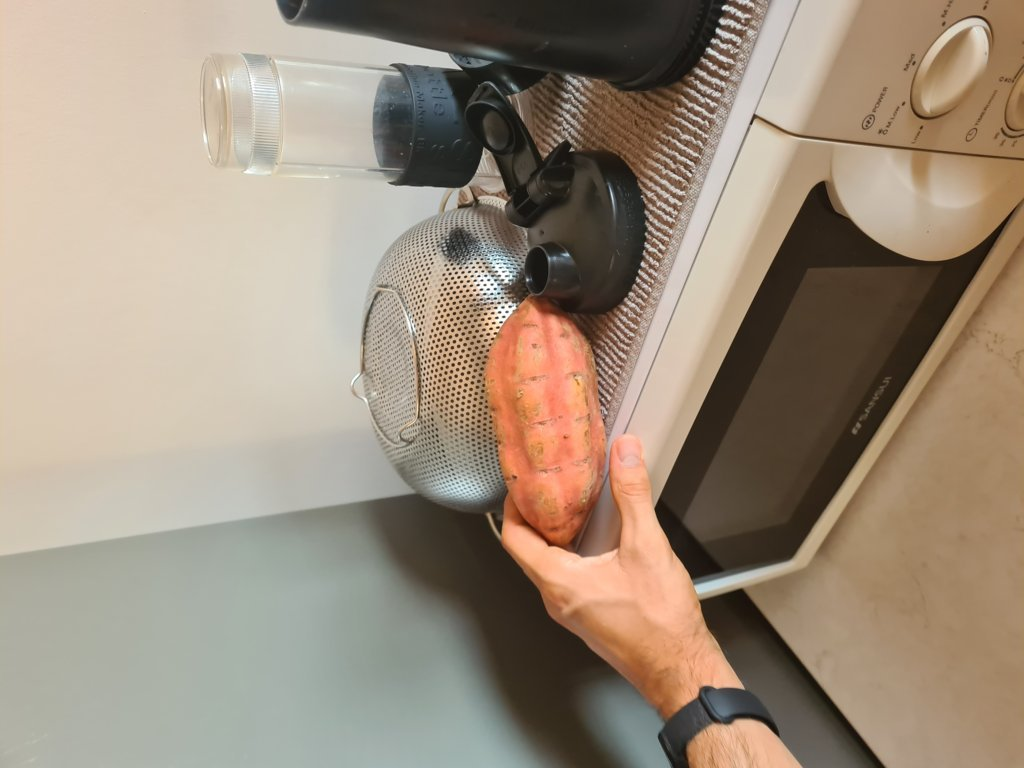Sweet Potatow: (480, 295, 603, 547)
